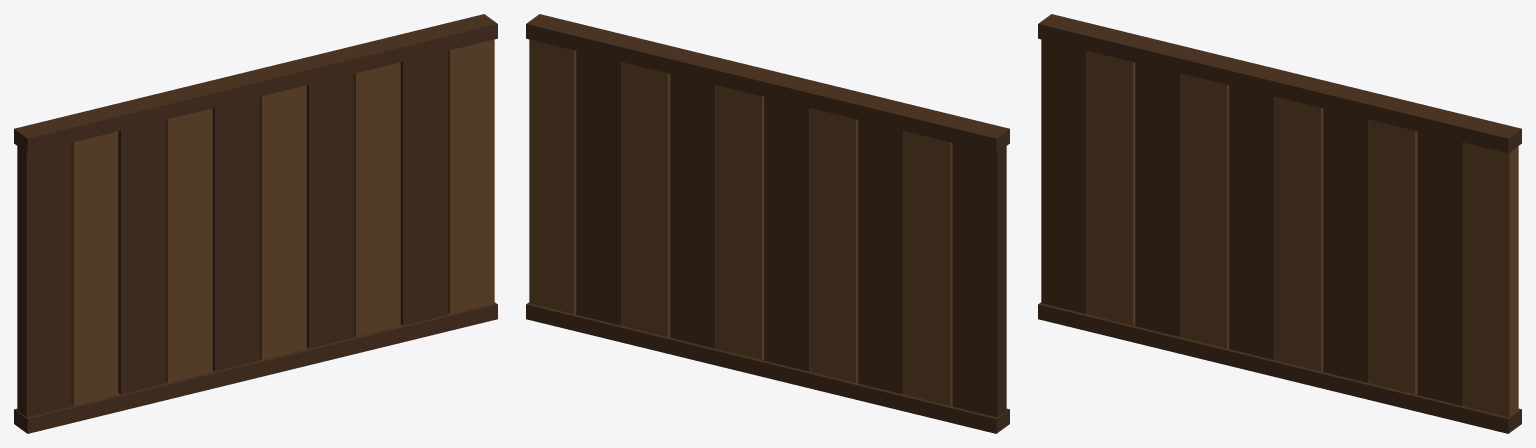
File: hanok_wall_plank.glb
3 views of the same model, side by side, from view 1: azimuth 30°, elevation 25°; view 2: azimuth 150°, elevation 25°; view 3: azimuth 330°, elevation 25° (orthographic).
Visible parts, largest first — view 1: hanok_wall_plank; view 2: hanok_wall_plank; view 3: hanok_wall_plank.
Boxes of the visible parts, left/top/right/bottom form: hanok_wall_plank: left=14, top=14, right=497, bottom=433; hanok_wall_plank: left=526, top=14, right=1009, bottom=433; hanok_wall_plank: left=1038, top=14, right=1521, bottom=433.
Bounding box in the file's own units: 4 × 2.4 × 0.2.
